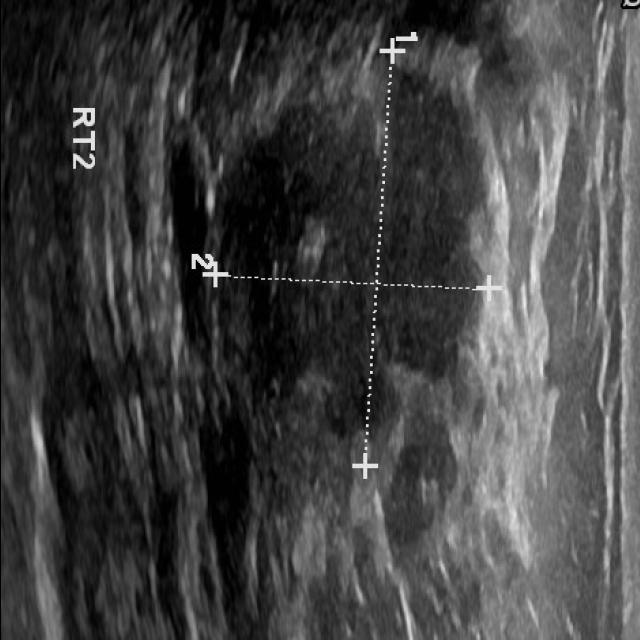Malignant: (227, 98, 485, 420)
